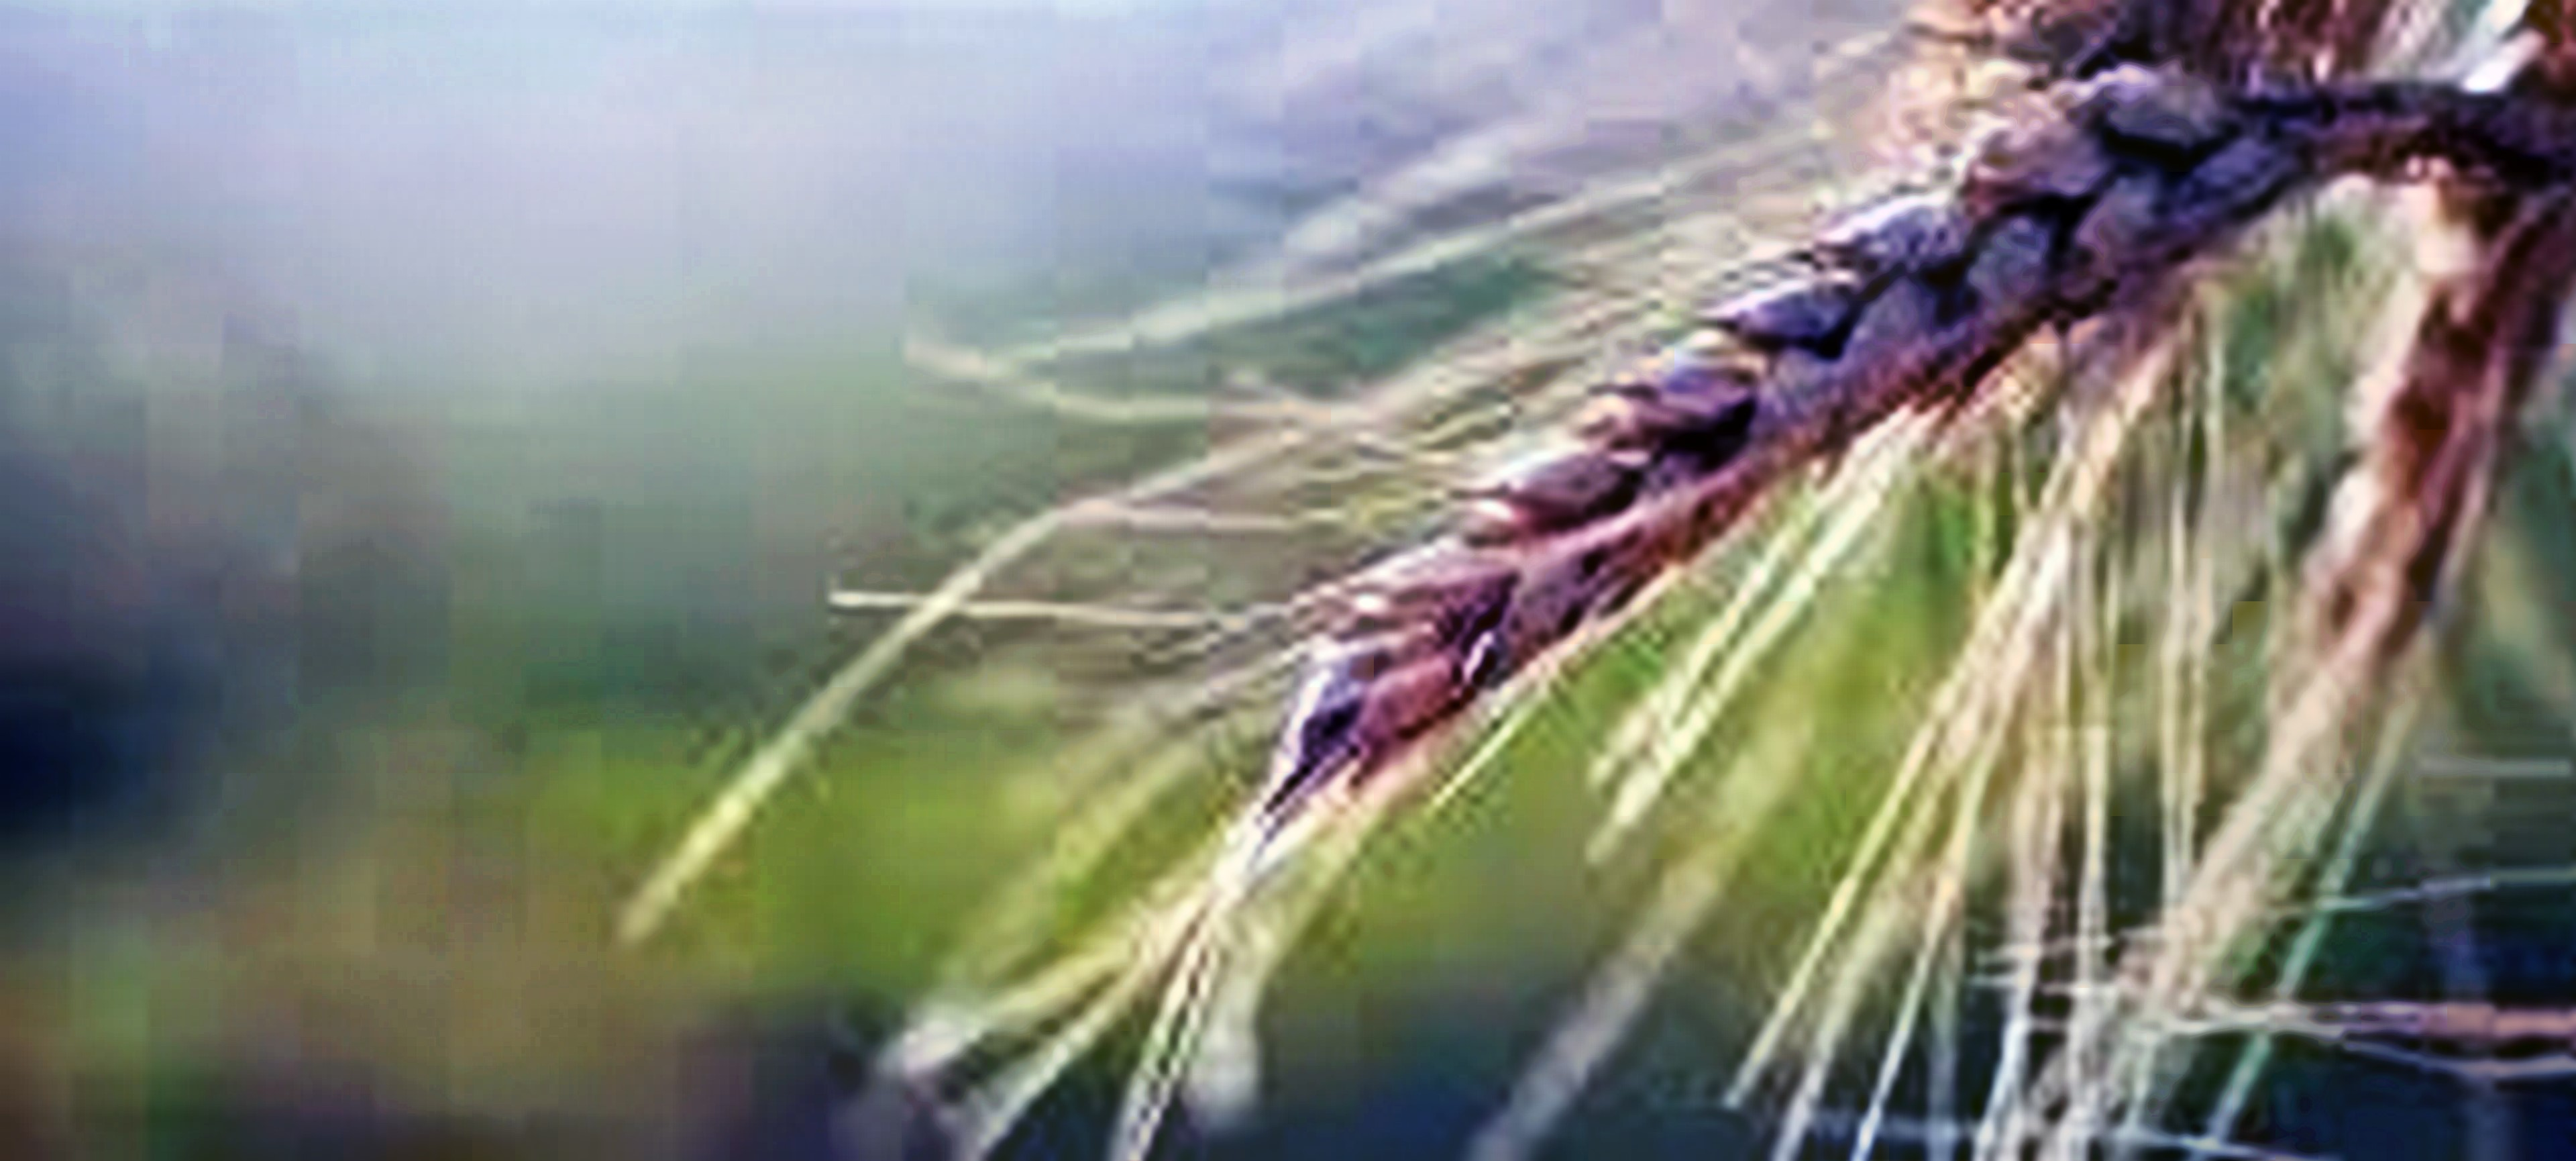Healthy Wheat: (1244, 56, 2270, 804)
